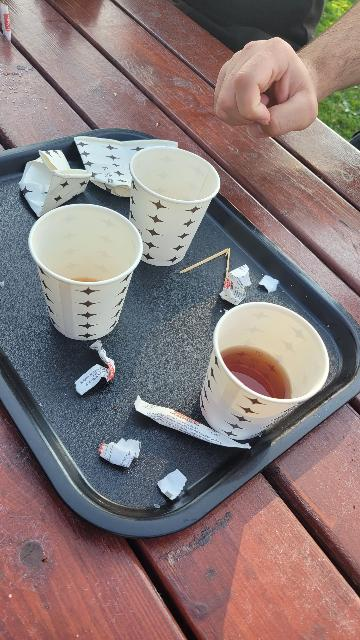Kagit: (197, 294, 323, 446), (20, 196, 136, 348), (126, 143, 224, 281), (129, 391, 260, 469), (72, 126, 188, 198), (8, 145, 95, 217), (72, 344, 125, 404), (93, 422, 148, 478), (215, 252, 257, 319), (146, 460, 191, 505)
